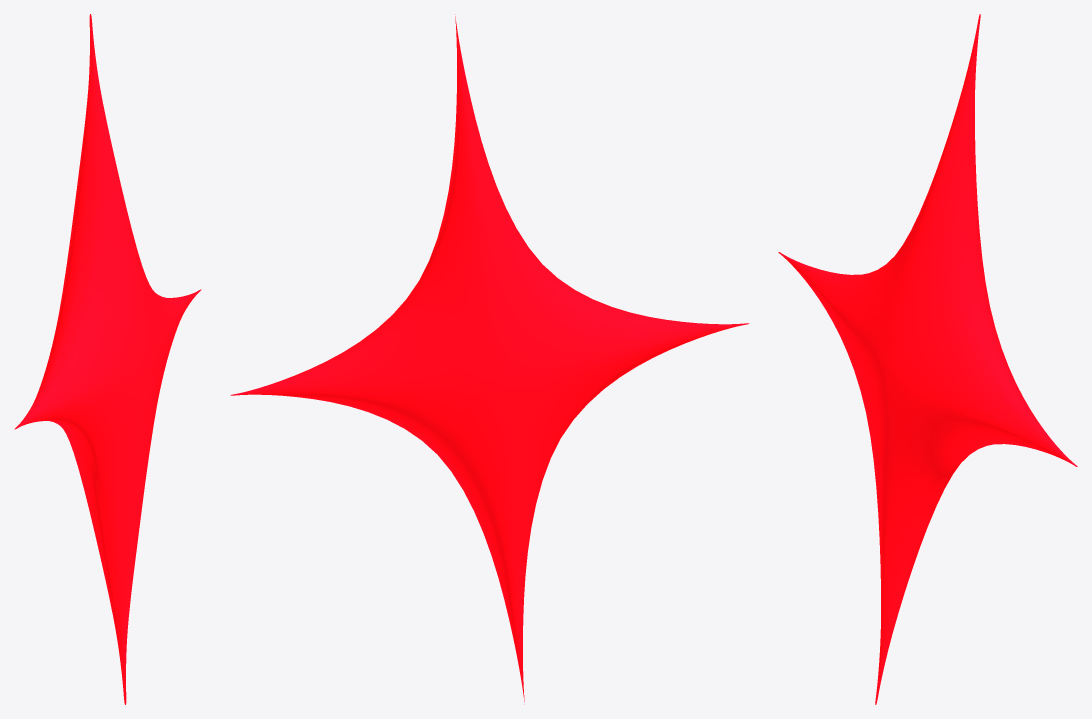
The model's file is illusion.glb.
3 views of the same model, side by side, from view 1: azimuth 30°, elevation 25°; view 2: azimuth 150°, elevation 25°; view 3: azimuth 270°, elevation 25° (orthographic). The views are drawn at different scales.
Visible parts, largest first — view 1: illusion; view 2: illusion; view 3: illusion.
Boxes of the visible parts, box(x1,y1,x2,y2) form: illusion: box(14, 14, 201, 704); illusion: box(230, 14, 749, 704); illusion: box(778, 14, 1077, 704).
Size of the model in its own units: 144 by 275 by 107.
